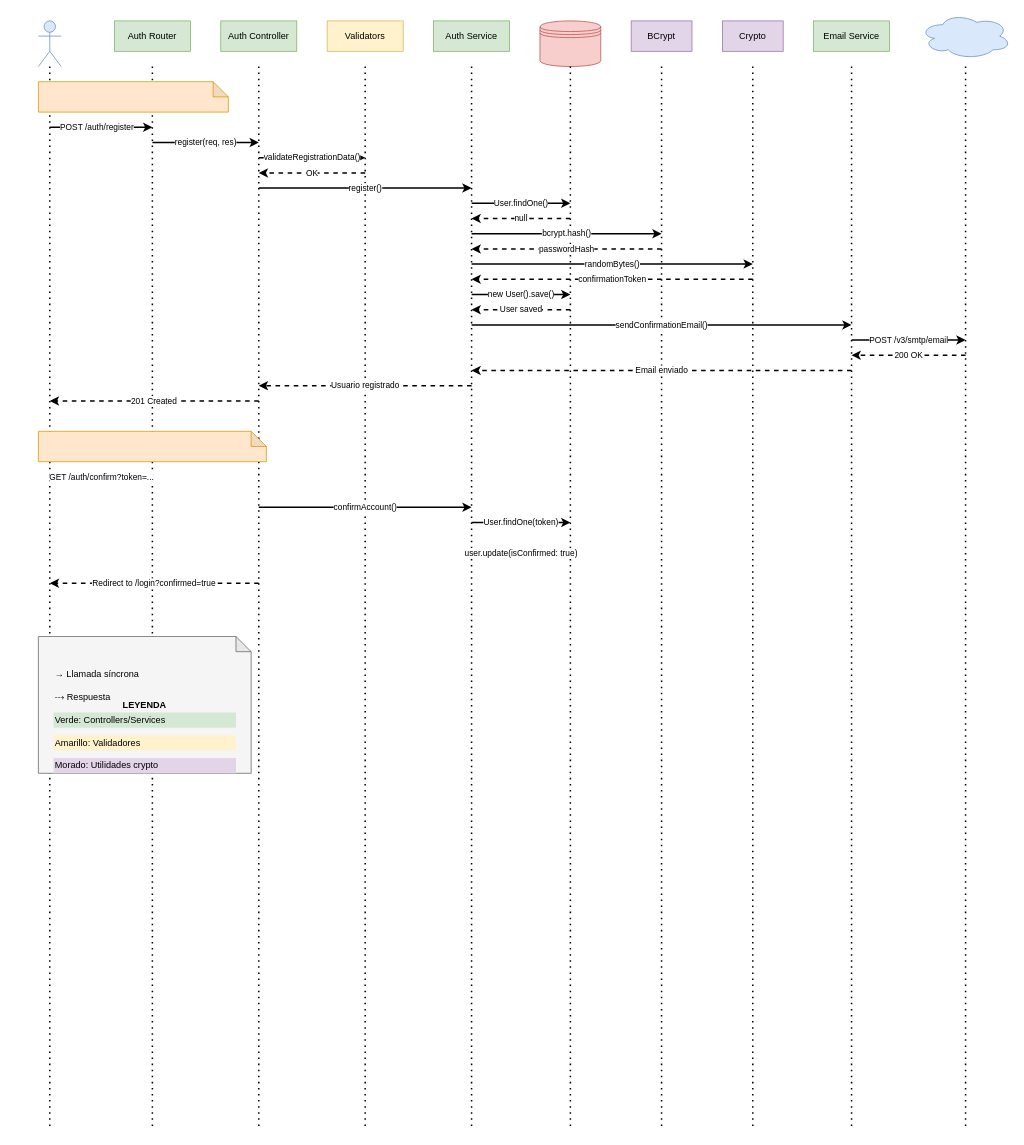
Image size: 1024x1145. Some labels were removed from this diagram. The shapes that lost their labels are listed below. From the top down, each one's centre as x and y in pixels, then its label:
(x=49, y=43): Cliente (Frontend)
(x=570, y=43): MongoDB
(x=965, y=36): Brevo API
(x=133, y=96): FASE 1: REGISTRO INICIAL
(x=152, y=446): FASE 2: CONFIRMACIÓN DE CUENTA
